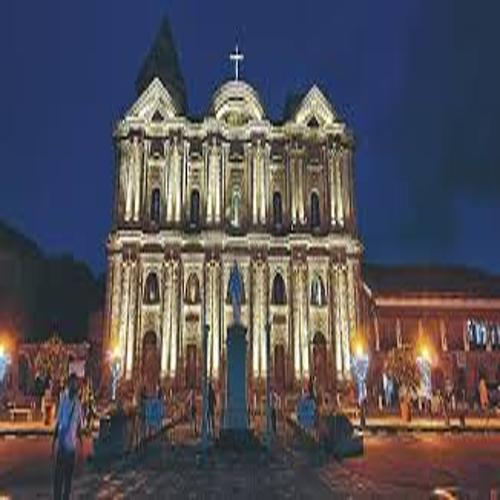Taal Basilica Church: (93, 16, 374, 437)
